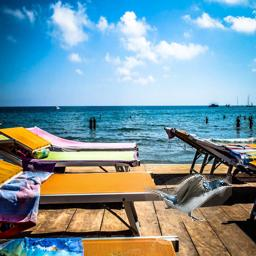Swallow: (142, 173, 232, 221)
